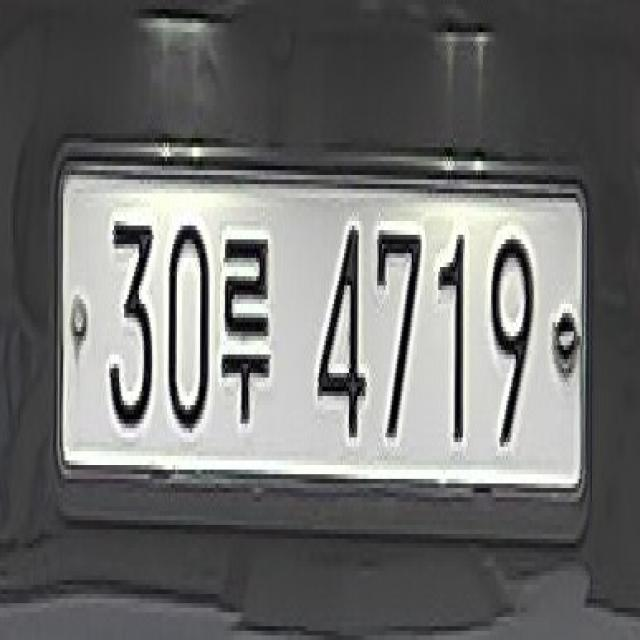0: (167, 225, 212, 432)
1: (433, 230, 473, 447)
3: (109, 221, 157, 437)
4: (314, 216, 367, 446)
7: (374, 221, 423, 447)
9: (489, 230, 536, 442)
license_plate: (51, 129, 594, 539)
lu: (222, 230, 271, 428)
